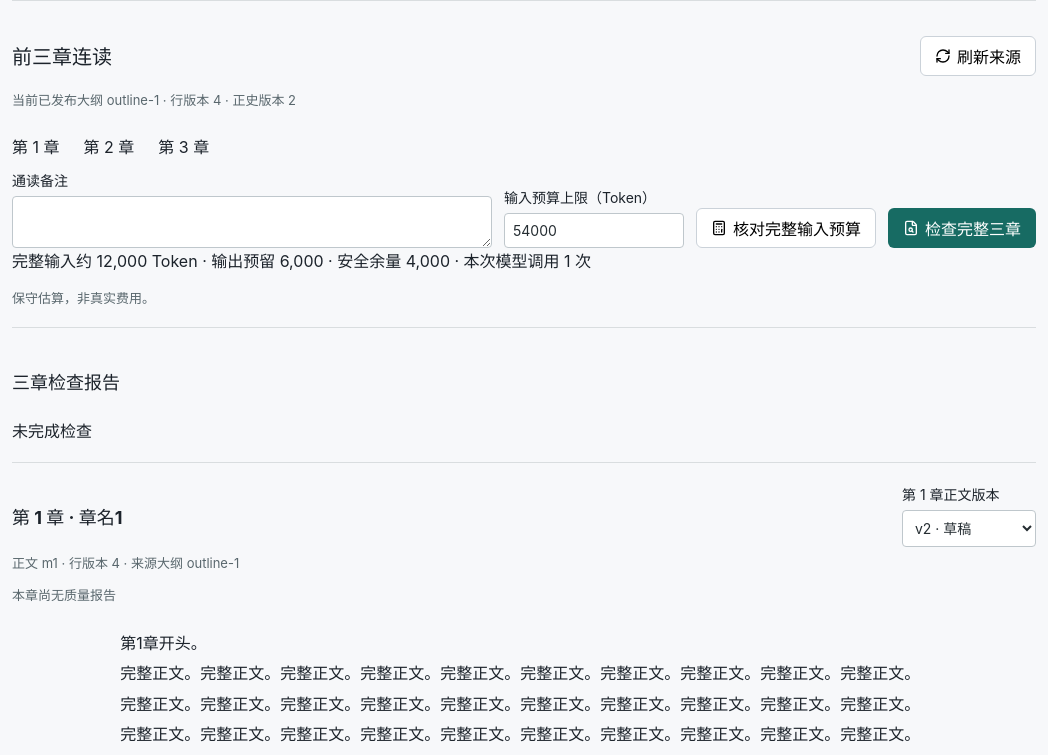
Scenario: FirstThreeChaptersPanel › checks only on click with exact versions, author budget and source fingerprint
The image size is (1048, 755).
Click the button "检查完整三章". click: click(962, 228)
box: 888,208 -> 1036,248
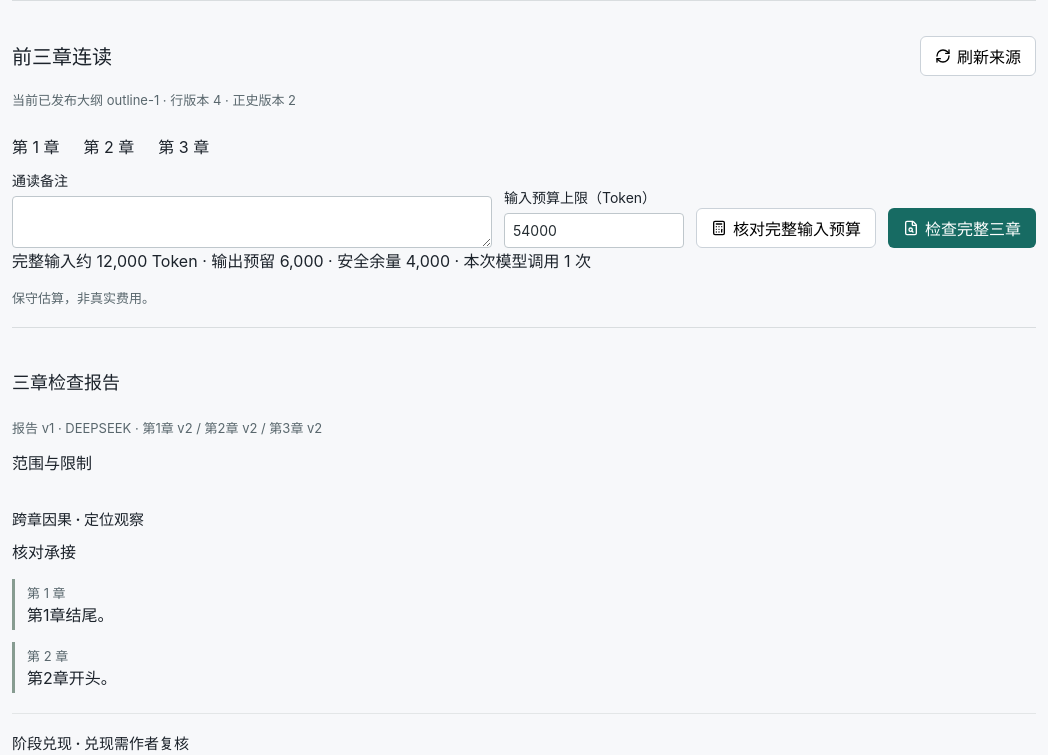
Check: the text "兑现需作者复核" is shown, box 12,734 -> 189,753
